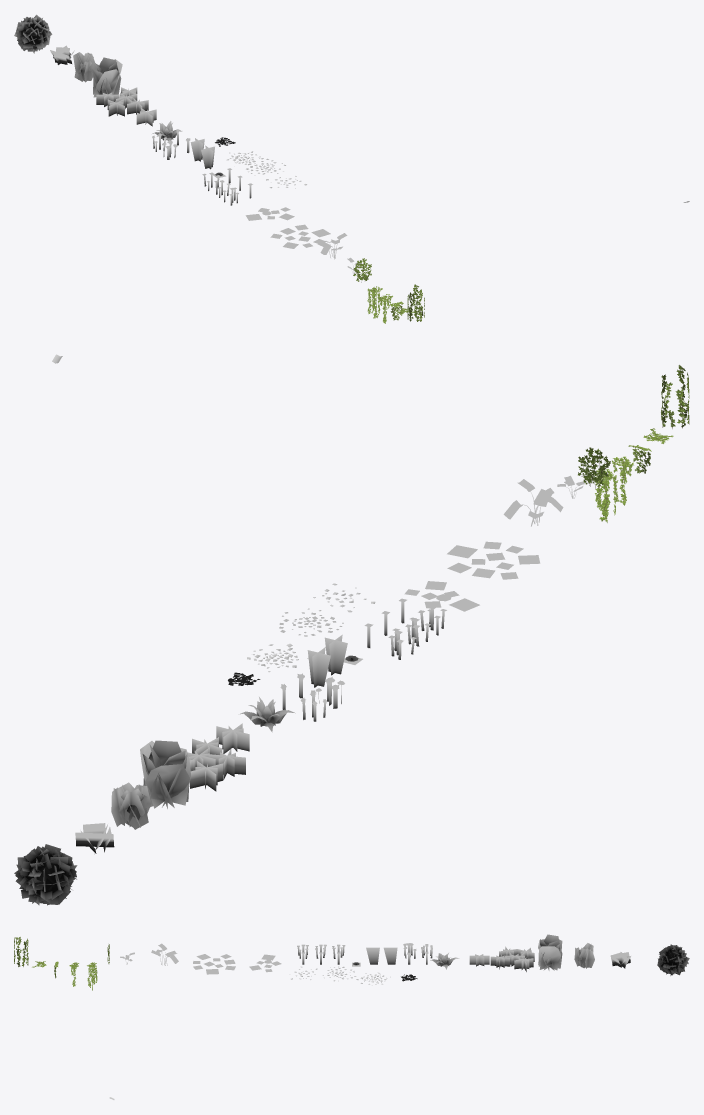
File: FAE_Vegetation.fbx
3 views of the same model, one above another, from view 1: azimuth 30°, elevation 25°; view 2: azimuth 150°, elevation 25°; view 3: azimuth 270°, elevation 25° (orthographic). The views are drawn at different scales.
Parts seen in each view (by area): view 1: Bush_C_LOD0, Bush_A, GrassPatch_LOD0, Lillypads_B, Bush_B; view 2: Bush_C_LOD0, Bush_A, GrassPatch_LOD0, Bush_B, Lillypads_B, Ivy_Cylinder, GrassThick_LOD0, Lillypads_A_LOD0, ElephantEar1; view 3: Bush_A, GrassPatch_LOD0, Bush_C_LOD0, Lillypads_B, Bush_B.
Part boxes in pixels (<box>): Bush_C_LOD0: <box>14,14,52,53</box>; Bush_A: <box>89,57,122,97</box>; GrassPatch_LOD0: <box>96,87,148,116</box>; Lillypads_B: <box>270,224,330,248</box>; Bush_B: <box>73,52,94,82</box>; Bush_C_LOD0: <box>14,844,77,905</box>; Bush_A: <box>140,740,190,808</box>; GrassPatch_LOD0: <box>187,737,245,791</box>; Bush_B: <box>111,782,151,829</box>; Lillypads_B: <box>447,541,540,579</box>; Ivy_Cylinder: <box>661,365,689,428</box>; GrassThick_LOD0: <box>75,823,114,853</box>; Lillypads_A_LOD0: <box>404,581,479,611</box>; ElephantEar1: <box>503,479,563,526</box>; Bush_A: <box>538,934,562,970</box>; GrassPatch_LOD0: <box>490,946,534,971</box>; Bush_C_LOD0: <box>657,944,689,975</box>; Lillypads_B: <box>193,954,235,974</box>; Bush_B: <box>574,943,594,968</box>.
Size of what is drawn, in the model's own units: 1956 by 348 by 3836.
